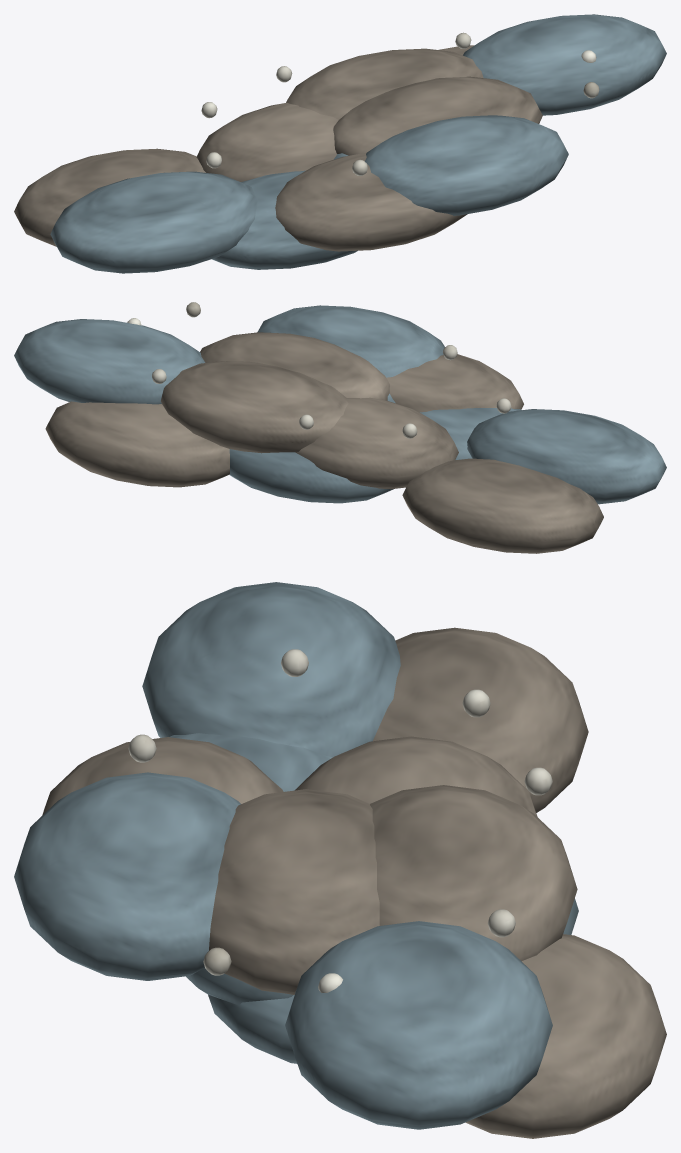
Rendered from nebula.glb.
The picture shows the model from 3 angles, top to bottom: view 1: azimuth 30°, elevation 25°; view 2: azimuth 150°, elevation 25°; view 3: azimuth 270°, elevation 25°; orthographic projection. The views are drawn at different scales.
Visible parts, largest first — view 1: nebula_textured_mesh; view 2: nebula_textured_mesh; view 3: nebula_textured_mesh.
Part boxes in pixels (x1,y1,x2,y2): nebula_textured_mesh: [14, 14, 666, 273]; nebula_textured_mesh: [14, 302, 666, 553]; nebula_textured_mesh: [14, 582, 666, 1138].
Bounding box in the file's own units: 4.98 × 0.8 × 2.54.
Materials: 1 (1 with a texture image).
